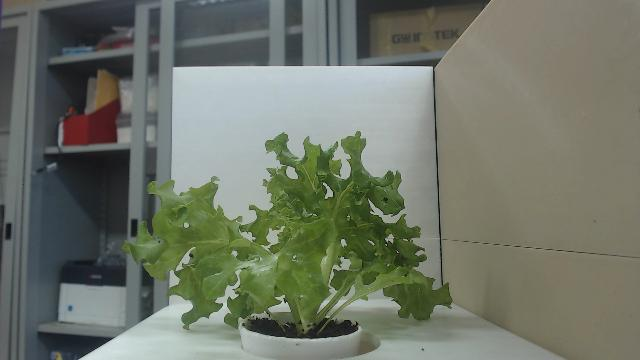Harvest Stage: (122, 130, 454, 332)
